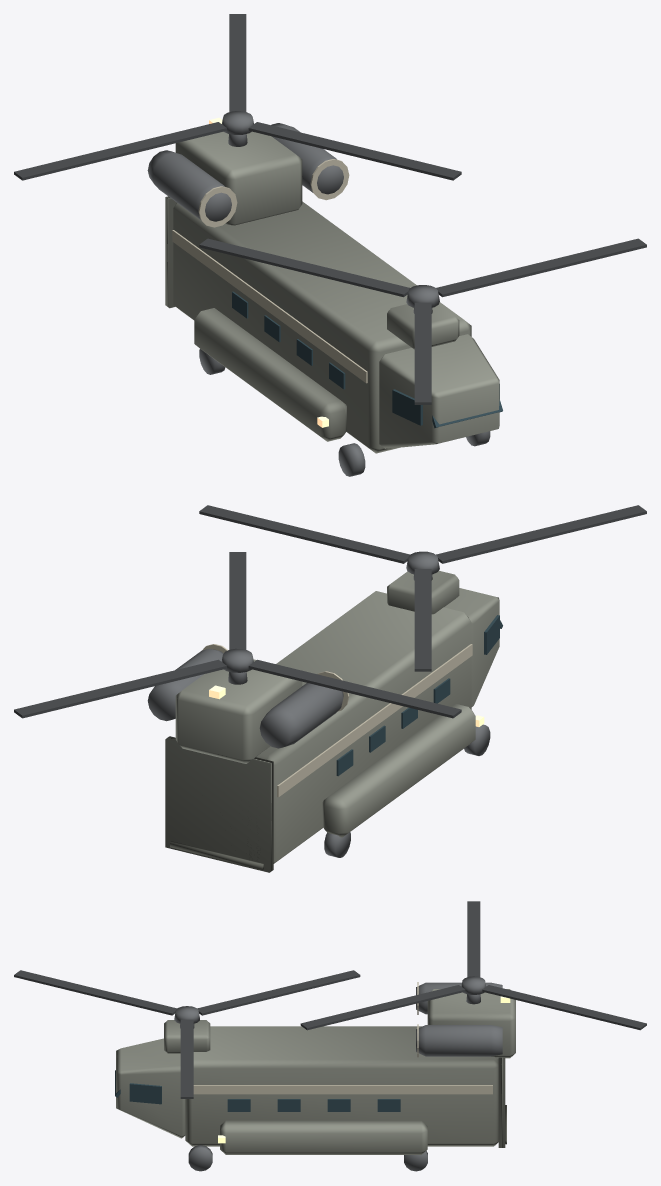
The model's file is airlift.glb.
3 views of the same model, one above another, from view 1: azimuth 30°, elevation 25°; view 2: azimuth 150°, elevation 25°; view 3: azimuth 270°, elevation 25° (orthographic). The views are drawn at different scales.
Visible parts, largest first — view 1: Fuselage, Engines, Rotor0 blades, Rotor1 blades, Stripes, Glazing; view 2: Fuselage, Rotor0 blades, Rotor1 blades, Engines, Stripes, Glazing, Ramp panel, Rotor1 hub, Rotor0 hub; view 3: Fuselage, Engines, Rotor0 blades, Rotor1 blades, Stripes, Glazing.
Part boxes in pixels (x1,y1,x2,y2): Fuselage: [165, 131, 499, 453]; Engines: [147, 123, 490, 476]; Rotor0 blades: [199, 238, 646, 404]; Rotor1 blades: [14, 14, 461, 180]; Stripes: [172, 159, 367, 383]; Glazing: [232, 291, 502, 428]; Fuselage: [165, 570, 499, 872]; Rotor0 blades: [199, 505, 646, 671]; Rotor1 blades: [14, 552, 461, 718]; Engines: [147, 574, 490, 857]; Stripes: [202, 644, 472, 797]; Glazing: [336, 615, 502, 776]; Ramp panel: [170, 841, 263, 869]; Rotor1 hub: [221, 648, 253, 672]; Rotor0 hub: [406, 551, 439, 574]; Fuselage: [116, 989, 515, 1154]; Engines: [180, 982, 502, 1171]; Rotor0 blades: [14, 970, 360, 1098]; Rotor1 blades: [300, 901, 646, 1030]; Stripes: [193, 982, 492, 1094]; Glazing: [115, 1070, 400, 1111].
Size of the model in its own units: 10.2 by 4.76 by 16.45.
